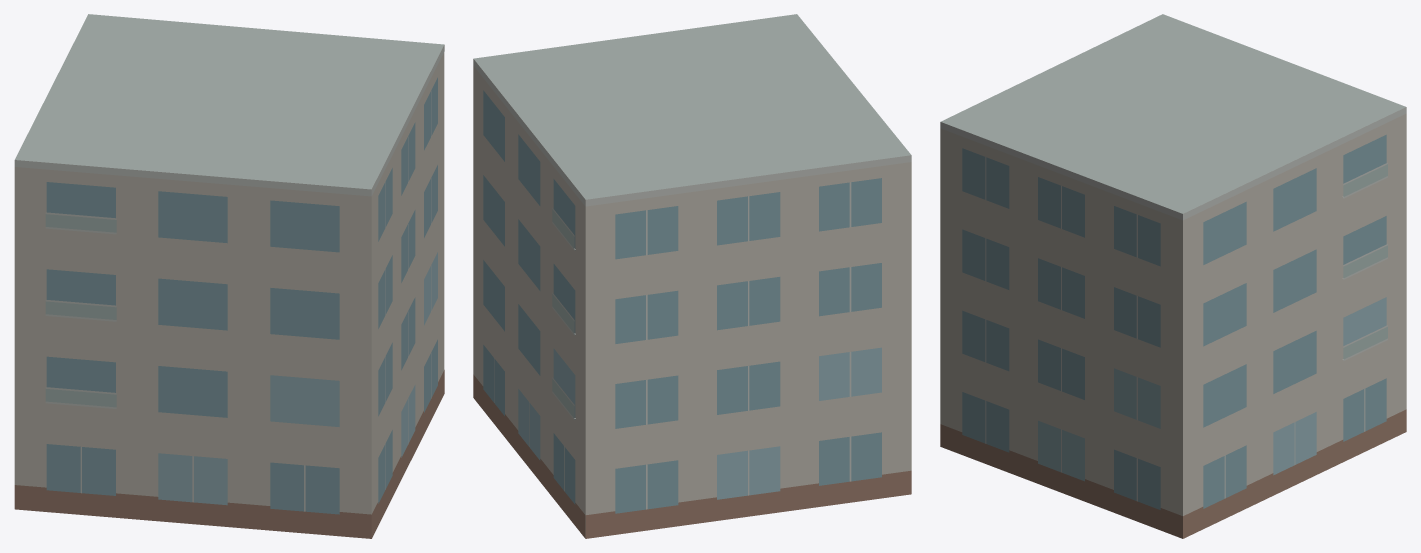
File: survey-upis-32885608.glb
The picture shows the model from 3 angles, left to right: view 1: azimuth 30°, elevation 25°; view 2: azimuth 150°, elevation 25°; view 3: azimuth 270°, elevation 25°; orthographic projection. The views are drawn at different scales.
Parts seen in each view (by area): view 1: survey-upis-32885608.tmp; view 2: survey-upis-32885608.tmp; view 3: survey-upis-32885608.tmp.
Part boxes in pixels (x1,y1,x2,y2): survey-upis-32885608.tmp: (14,14,444,538); survey-upis-32885608.tmp: (473,14,911,538); survey-upis-32885608.tmp: (940,14,1406,538).
Bounding box in the file's own units: 16.11 × 12.2 × 15.87.
